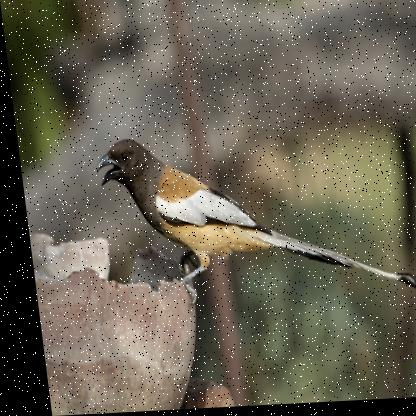Burung: (88, 127, 415, 313)
